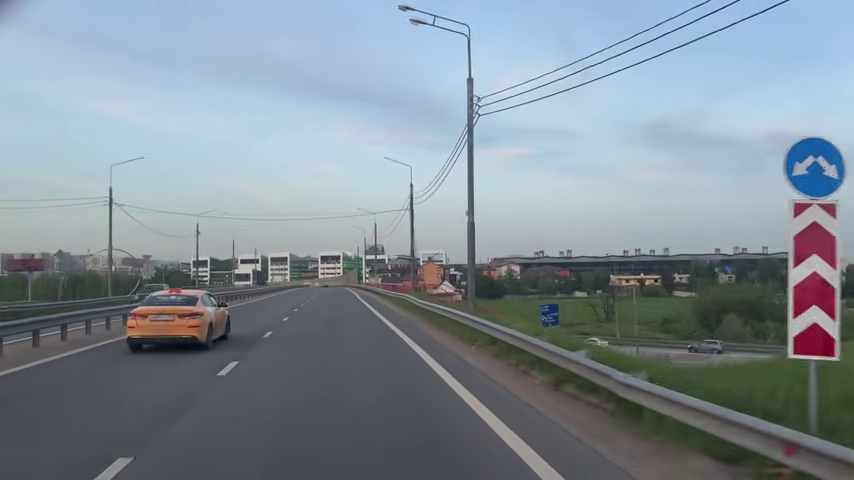apagada: (396, 4, 424, 30), (126, 152, 147, 166), (382, 153, 397, 167)
